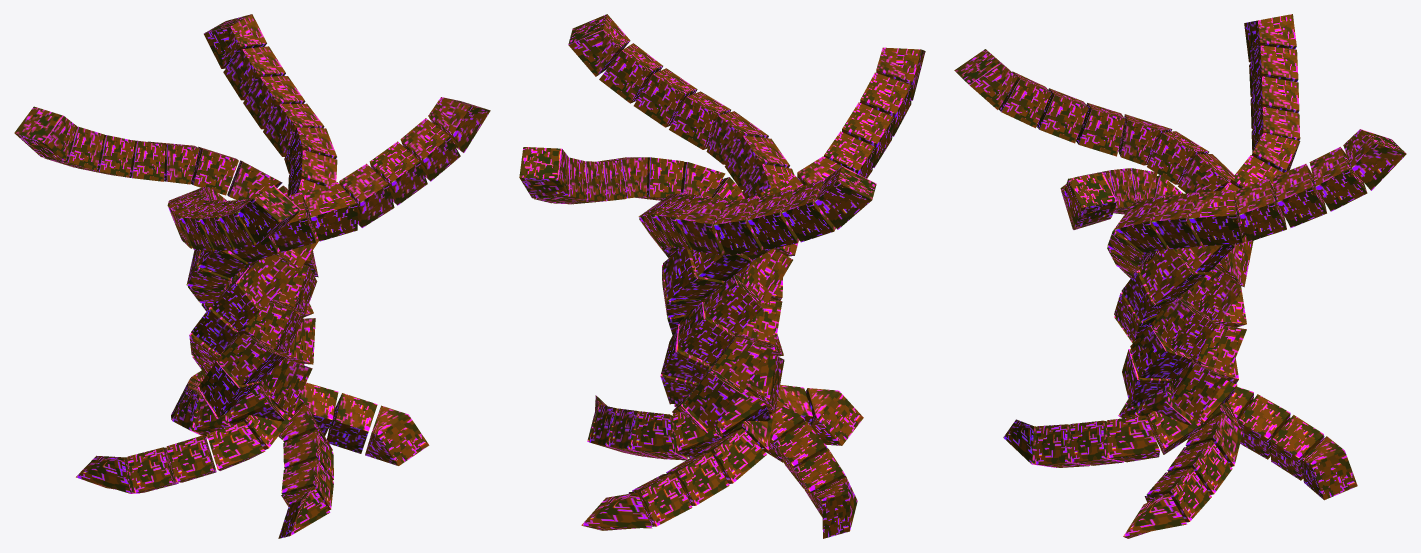
Rendered from TreeRoot.fbx.
3 renders of one model, left to right at view 1: azimuth 30°, elevation 25°; view 2: azimuth 150°, elevation 25°; view 3: azimuth 270°, elevation 25°, orthographic. The views are drawn at different scales.
Visible parts, largest first — view 1: Tree Cube Applied; view 2: Tree Cube Applied; view 3: Tree Cube Applied.
Boxes of the visible parts, <box> form: Tree Cube Applied: <box>14,14,490,538</box>; Tree Cube Applied: <box>519,14,925,538</box>; Tree Cube Applied: <box>954,14,1406,538</box>.
Size of the model in its own units: 2359 by 2196 by 2359.
